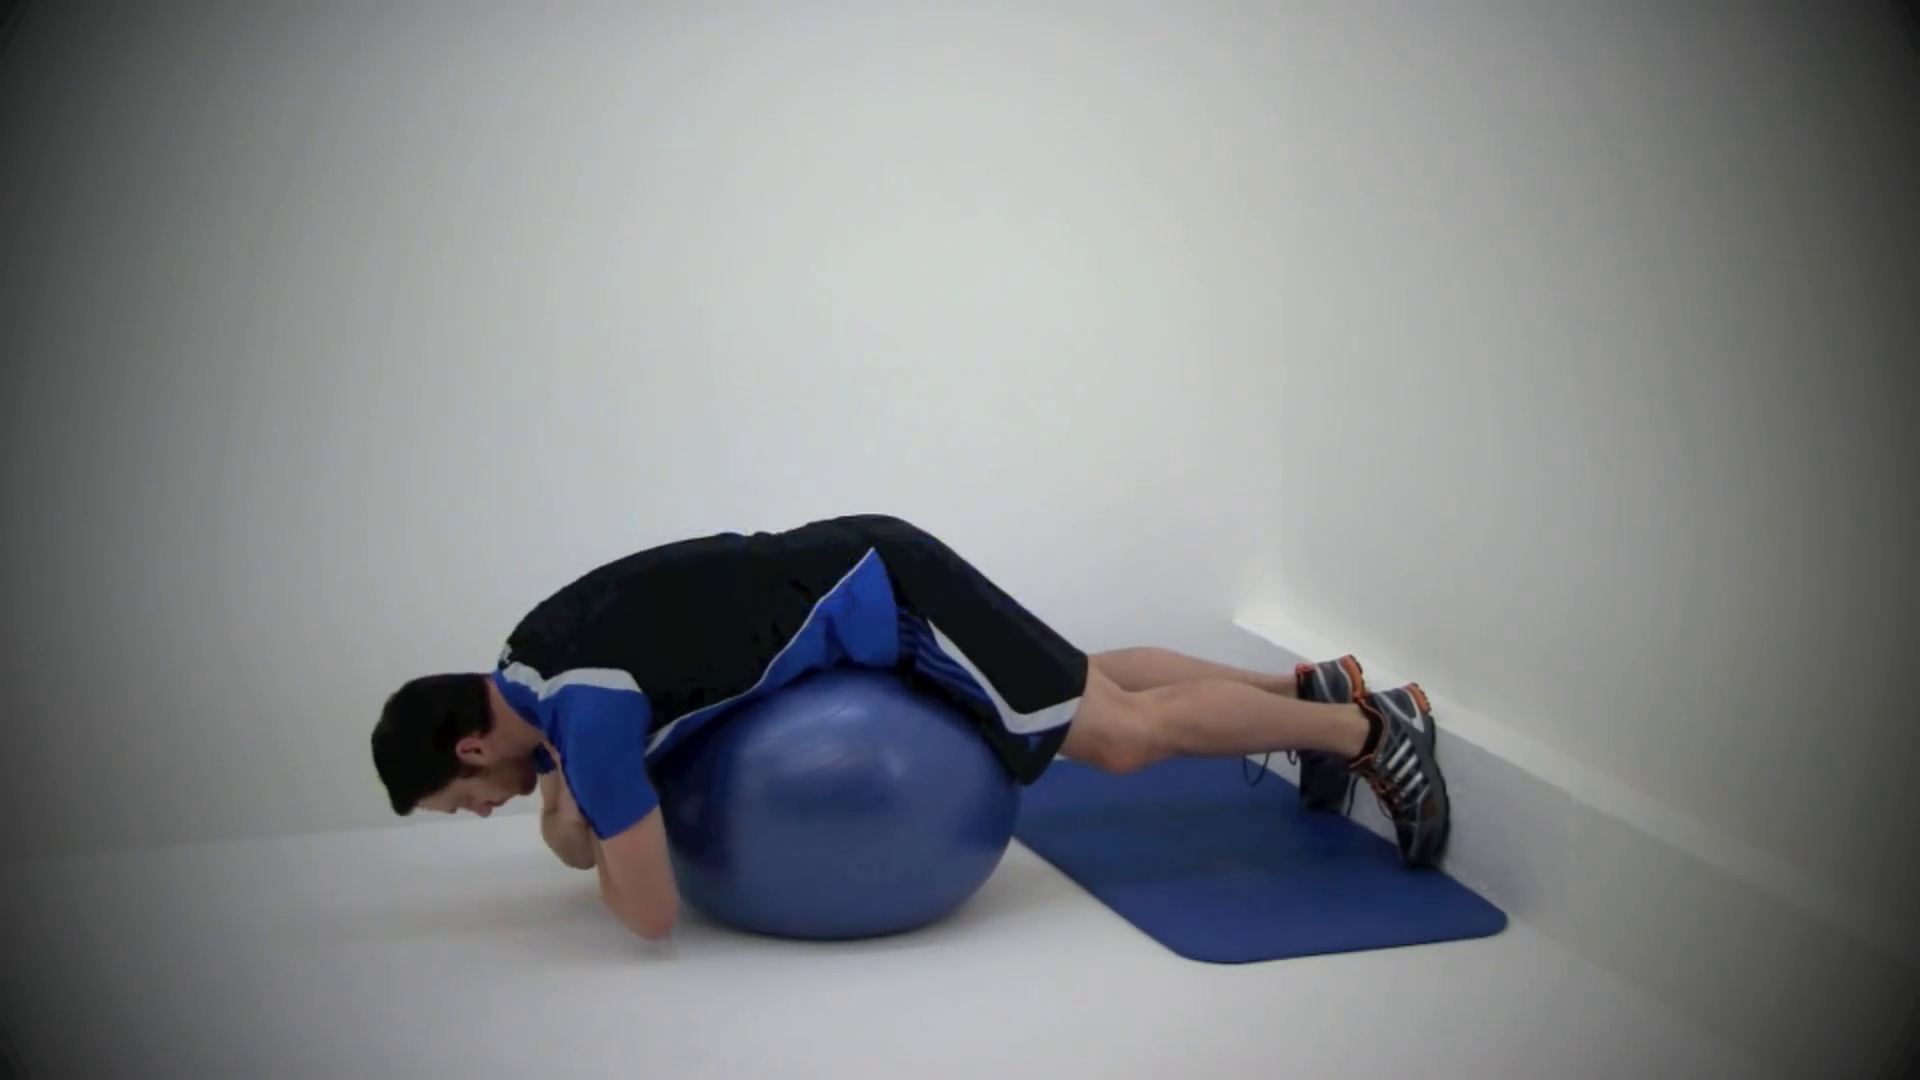yogaball: (659, 670, 1022, 968)
